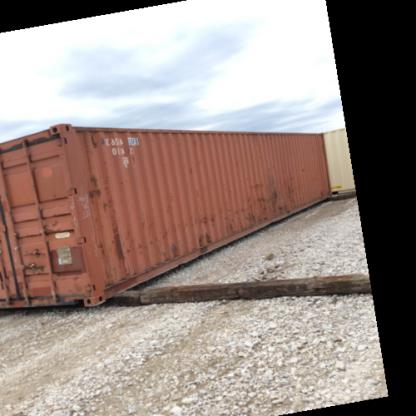Damage: (250, 174, 293, 226), (88, 224, 128, 266), (82, 171, 110, 203), (161, 233, 191, 258), (195, 216, 217, 250)
